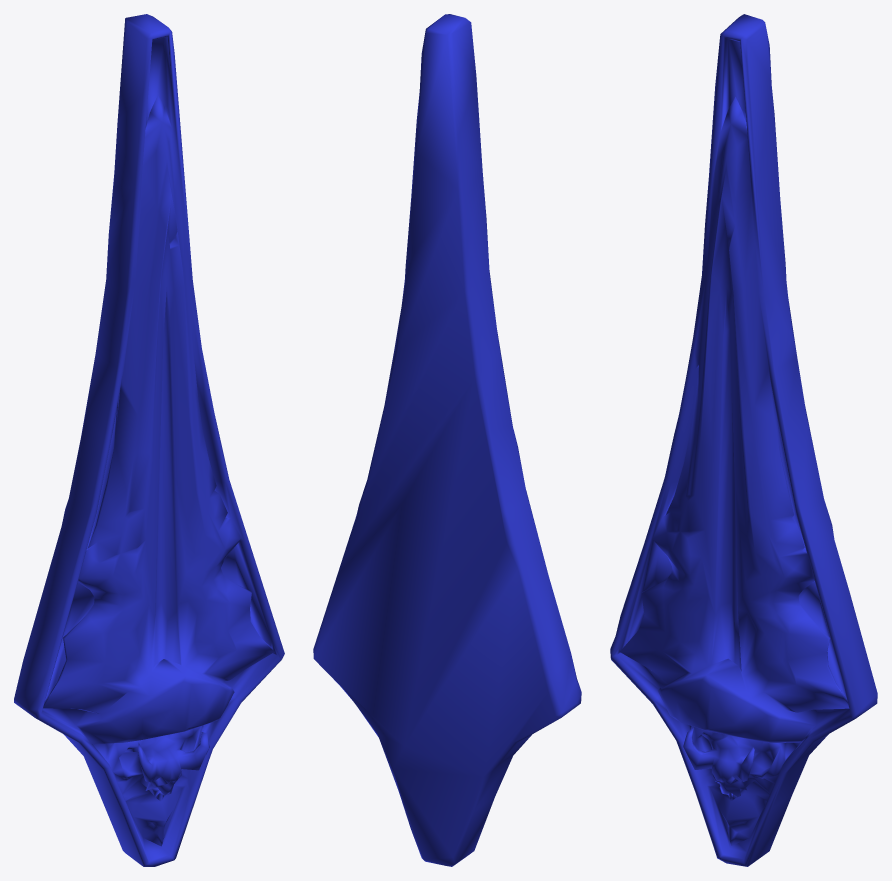
File: SM_SmallOrnament_B_003.FBX
The picture shows the model from 3 angles, left to right: view 1: azimuth 30°, elevation 25°; view 2: azimuth 150°, elevation 25°; view 3: azimuth 330°, elevation 25°; orthographic projection.
Parts seen in each view (by area): view 1: SM_SmallOrnament_B_003; view 2: SM_SmallOrnament_B_003; view 3: SM_SmallOrnament_B_003.
Boxes of the visible parts, box(x1,y1,x2,y2) form: SM_SmallOrnament_B_003: box(14, 14, 284, 866); SM_SmallOrnament_B_003: box(313, 14, 581, 866); SM_SmallOrnament_B_003: box(610, 14, 877, 866).
Size of the model in its own units: 150 by 477 by 52.33.
